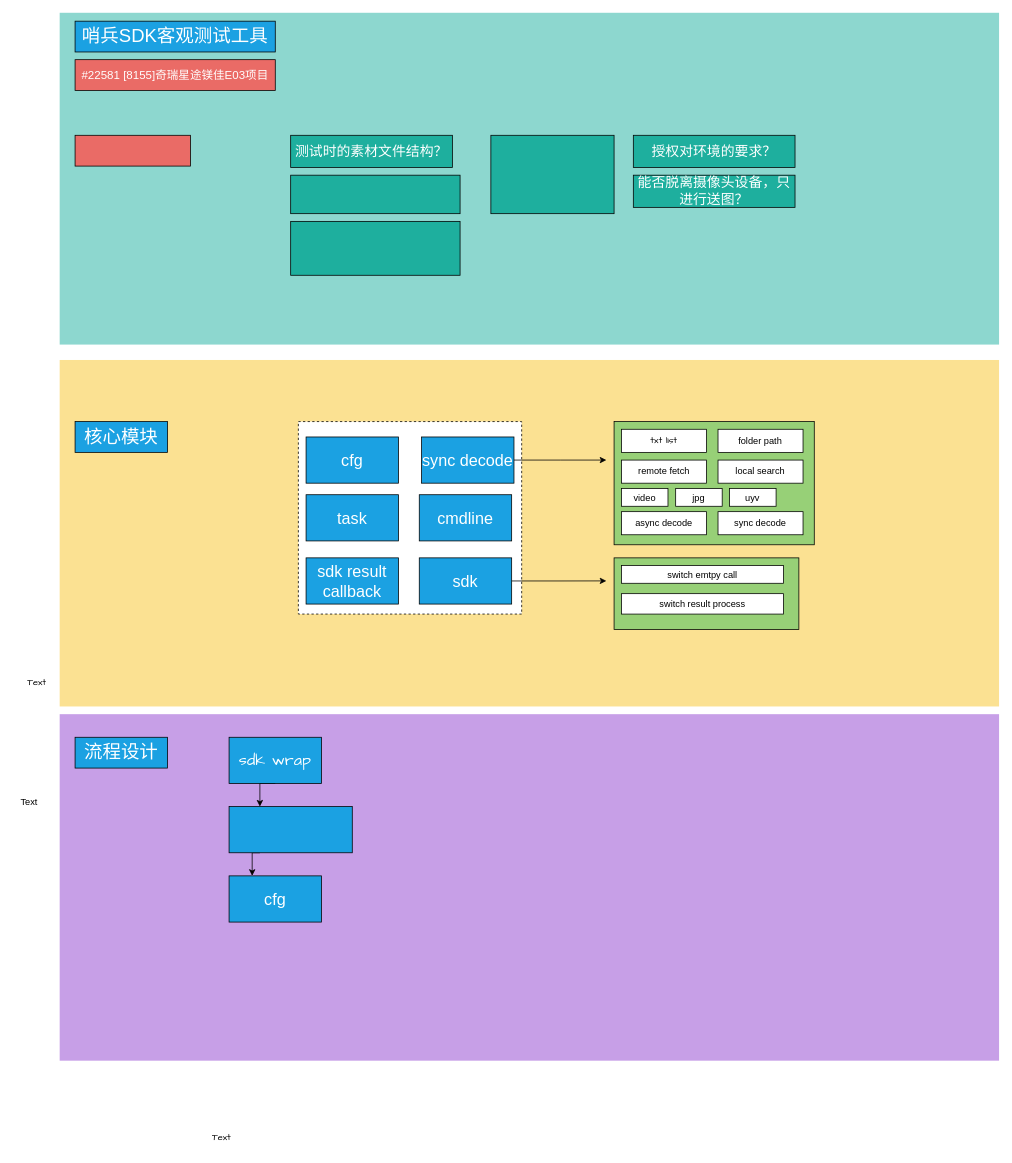
Some shapes in this 1012 by 1163 pixel diagram are drawn without their labels. Each missing label, with the centre of its shape:
"sdk的图像检测是依次对每一路图像进行处理？" goes at point (375, 194).
"sync decode develop and test" goes at point (290, 829).
"开发前待核对问题" goes at point (132, 150).
"测试环境问题： 公板" goes at point (552, 174).
"算法是单帧逻辑还是多帧逻辑，对前后送帧时序是否有要求？" goes at point (375, 248).
